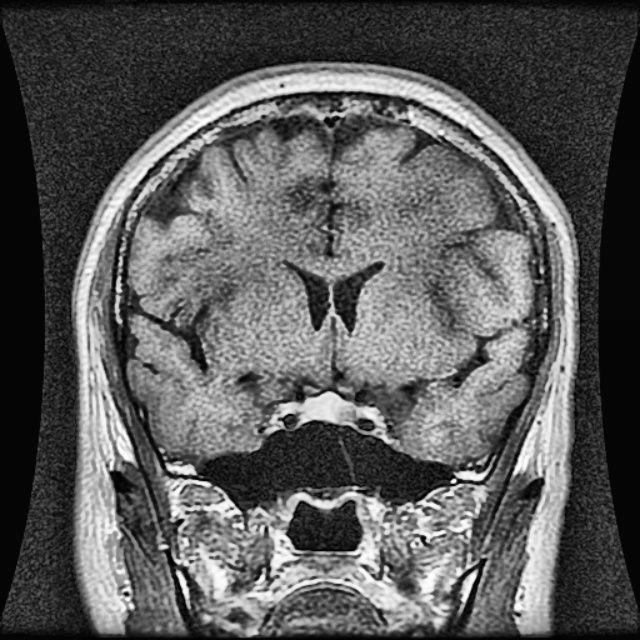Pituitary: (300, 393, 358, 425)
